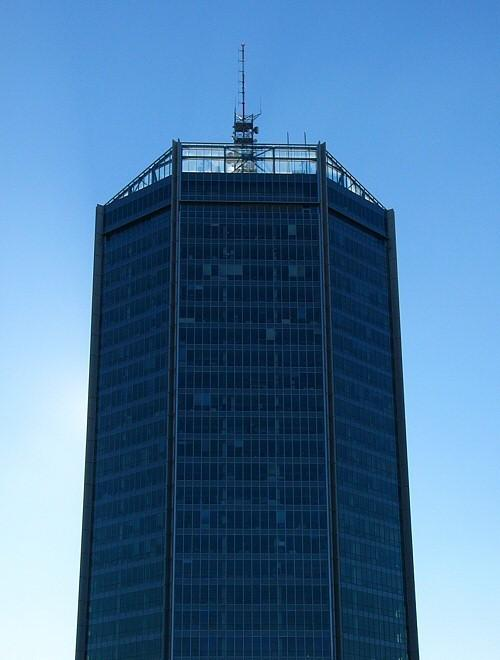building: (75, 43, 420, 660)
